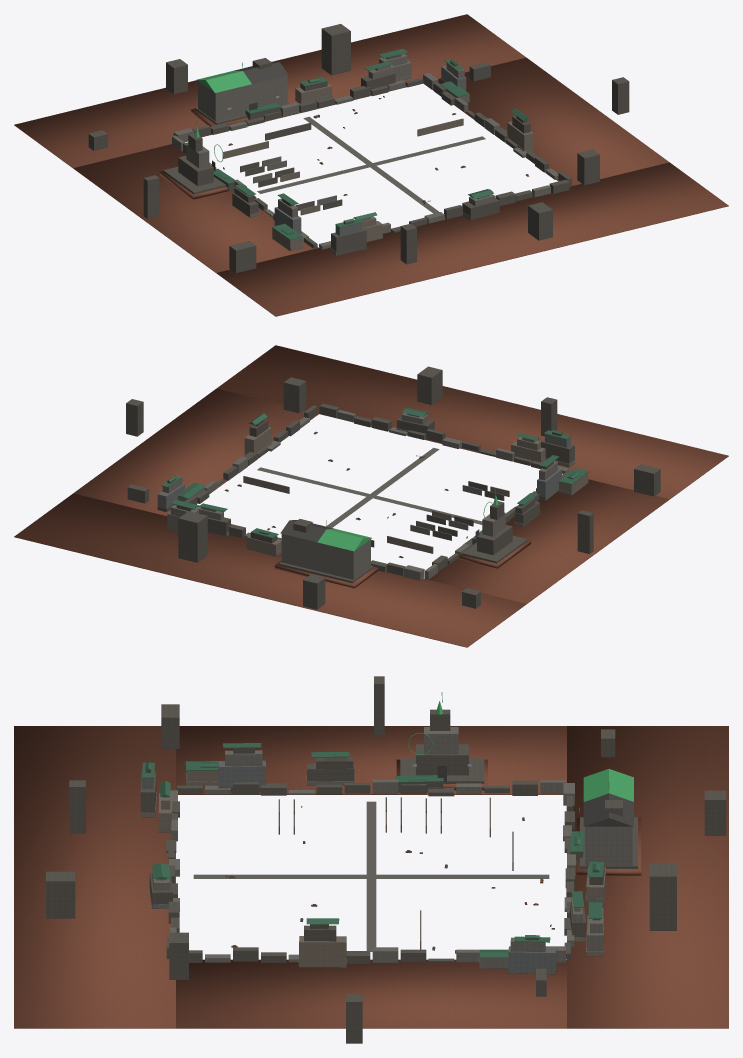
File: haieki-lod2.glb
3 renders of one model, top to bottom at view 1: azimuth 30°, elevation 25°; view 2: azimuth 150°, elevation 25°; view 3: azimuth 270°, elevation 25°, orthographic. The views are drawn at different scales.
Parts seen in each view (by area): view 1: HB_haieki_LOD2_terrain, HB_haieki_LOD2_wall_alt, HB_haieki_LOD2_wall, HB_haieki_LOD2_wall_warm, HB_haieki_LOD2_LANDMARK_0_wall, HB_haieki_LOD2_roof, HB_haieki_LOD2_road, HB_haieki_LOD2_wall_weathered, HB_haieki_LOD2_LANDMARK_1_wall_alt, HB_haieki_LOD2_wall_cool, HB_haieki_LOD2_LANDMARK_0_accent, HB_haieki_LOD2_LANDMARK_0_trim; view 2: HB_haieki_LOD2_terrain, HB_haieki_LOD2_wall_alt, HB_haieki_LOD2_wall, HB_haieki_LOD2_wall_warm, HB_haieki_LOD2_LANDMARK_0_wall, HB_haieki_LOD2_roof, HB_haieki_LOD2_wall_weathered, HB_haieki_LOD2_road, HB_haieki_LOD2_LANDMARK_1_wall_alt, HB_haieki_LOD2_wall_cool, HB_haieki_LOD2_LANDMARK_0_accent, HB_haieki_LOD2_LANDMARK_0_wall_alt (+2 smaller); view 3: HB_haieki_LOD2_terrain, HB_haieki_LOD2_wall_alt, HB_haieki_LOD2_wall, HB_haieki_LOD2_roof, HB_haieki_LOD2_road, HB_haieki_LOD2_wall_warm, HB_haieki_LOD2_LANDMARK_1_wall_alt, HB_haieki_LOD2_wall_cool, HB_haieki_LOD2_wall_weathered, HB_haieki_LOD2_LANDMARK_0_wall, HB_haieki_LOD2_LANDMARK_0_accent, HB_haieki_LOD2_LANDMARK_0_trim (+3 smaller).
Part boxes in pixels (x1,y1,x2,y2): HB_haieki_LOD2_terrain: (14, 14, 728, 316); HB_haieki_LOD2_wall_alt: (88, 24, 629, 273); HB_haieki_LOD2_wall: (172, 53, 558, 249); HB_haieki_LOD2_wall_warm: (222, 65, 533, 255); HB_haieki_LOD2_LANDMARK_0_wall: (198, 75, 287, 121); HB_haieki_LOD2_roof: (214, 48, 529, 239); HB_haieki_LOD2_road: (257, 116, 485, 213); HB_haieki_LOD2_wall_weathered: (214, 73, 530, 233); HB_haieki_LOD2_LANDMARK_1_wall_alt: (163, 133, 226, 194); HB_haieki_LOD2_wall_cool: (274, 65, 489, 236); HB_haieki_LOD2_LANDMARK_0_accent: (197, 62, 251, 92); HB_haieki_LOD2_LANDMARK_0_trim: (234, 61, 288, 110); HB_haieki_LOD2_terrain: (14, 345, 728, 647); HB_haieki_LOD2_wall_alt: (126, 366, 660, 609); HB_haieki_LOD2_wall: (162, 410, 568, 580); HB_haieki_LOD2_wall_warm: (201, 427, 588, 556); HB_haieki_LOD2_LANDMARK_0_wall: (281, 534, 370, 579); HB_haieki_LOD2_roof: (161, 408, 588, 539); HB_haieki_LOD2_wall_weathered: (157, 416, 553, 543); HB_haieki_LOD2_road: (257, 447, 482, 527); HB_haieki_LOD2_LANDMARK_1_wall_alt: (462, 501, 527, 563); HB_haieki_LOD2_wall_cool: (157, 413, 570, 508); HB_haieki_LOD2_LANDMARK_0_accent: (317, 520, 371, 551); HB_haieki_LOD2_LANDMARK_0_wall_alt: (279, 519, 373, 583); HB_haieki_LOD2_terrain: (14, 726, 728, 1028); HB_haieki_LOD2_wall_alt: (46, 676, 726, 1043); HB_haieki_LOD2_wall: (152, 750, 603, 968); HB_haieki_LOD2_roof: (142, 743, 604, 957); HB_haieki_LOD2_road: (193, 801, 549, 951); HB_haieki_LOD2_wall_warm: (140, 757, 605, 966); HB_haieki_LOD2_LANDMARK_1_wall_alt: (400, 709, 484, 783); HB_haieki_LOD2_wall_cool: (142, 760, 556, 973); HB_haieki_LOD2_wall_weathered: (149, 748, 604, 973); HB_haieki_LOD2_LANDMARK_0_wall: (585, 826, 632, 865); HB_haieki_LOD2_LANDMARK_0_accent: (583, 769, 633, 801); HB_haieki_LOD2_LANDMARK_0_trim: (579, 793, 633, 836).
Size of the model in its own units: 602 by 76.48 by 574.
Materials: 12 (11 with a texture image).
